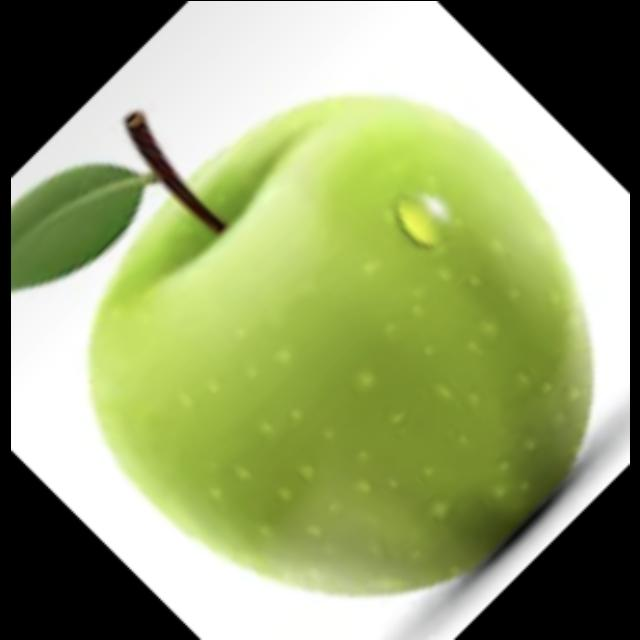Apel Segar: (71, 80, 603, 604)
